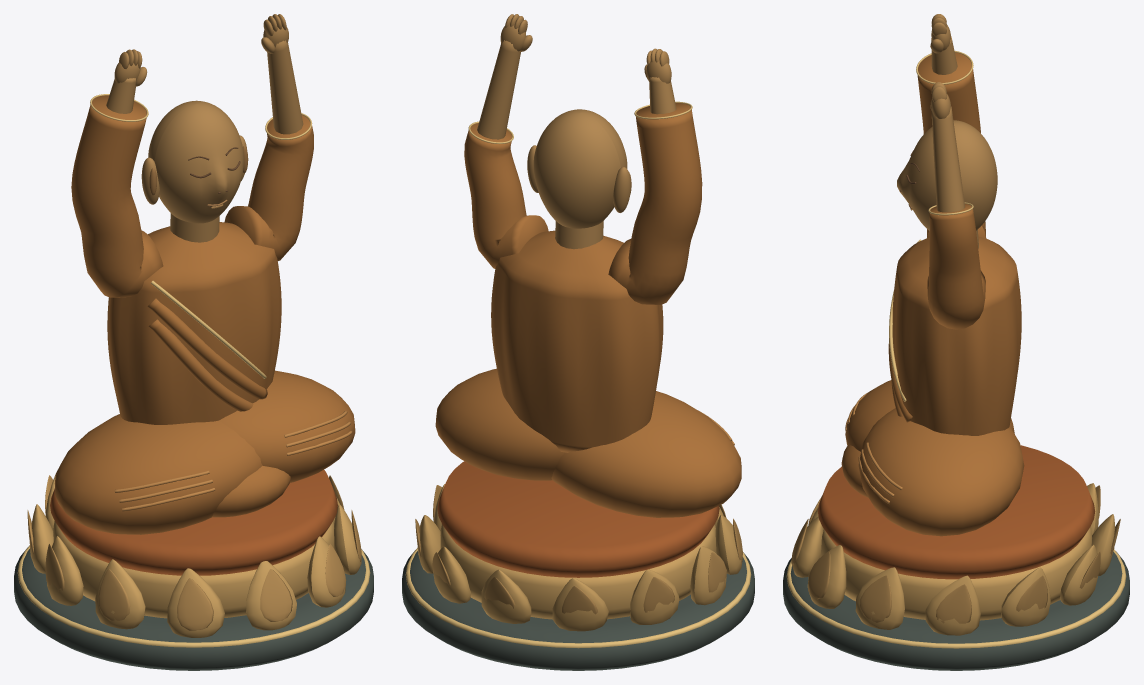
File: arhat_17.glb
The picture shows the model from 3 angles, left to right: view 1: azimuth 30°, elevation 25°; view 2: azimuth 150°, elevation 25°; view 3: azimuth 270°, elevation 25°; orthographic projection. The views are drawn at different scales.
Parts seen in each view (by area): view 1: arhat_17_ArhatDrapery, arhat_17_WarmBronze, arhat_17_AntiqueGold, arhat_17_CarvedPlinth, arhat_17_SaffronDrapery, arhat_17_GoldPetalRelief, arhat_17_RaisedGoldBorders, arhat_17_DraperyFoldHighlights; view 2: arhat_17_ArhatDrapery, arhat_17_SaffronDrapery, arhat_17_WarmBronze, arhat_17_CarvedPlinth, arhat_17_AntiqueGold, arhat_17_GoldPetalRelief, arhat_17_RaisedGoldBorders; view 3: arhat_17_ArhatDrapery, arhat_17_SaffronDrapery, arhat_17_AntiqueGold, arhat_17_CarvedPlinth, arhat_17_WarmBronze, arhat_17_GoldPetalRelief, arhat_17_RaisedGoldBorders, arhat_17_DraperyFoldHighlights.
Part boxes in pixels (left/top/right/bottom): arhat_17_ArhatDrapery: left=54, top=95, right=355, bottom=534; arhat_17_WarmBronze: left=106, top=14, right=303, bottom=242; arhat_17_AntiqueGold: left=29, top=475, right=361, bottom=637; arhat_17_CarvedPlinth: left=14, top=547, right=373, bottom=670; arhat_17_SaffronDrapery: left=50, top=470, right=337, bottom=575; arhat_17_GoldPetalRelief: left=27, top=475, right=361, bottom=630; arhat_17_RaisedGoldBorders: left=17, top=94, right=370, bottom=647; arhat_17_DraperyFoldHighlights: left=114, top=411, right=352, bottom=511; arhat_17_ArhatDrapery: left=435, top=102, right=741, bottom=517; arhat_17_SaffronDrapery: left=437, top=461, right=719, bottom=577; arhat_17_WarmBronze: left=477, top=14, right=676, bottom=249; arhat_17_CarvedPlinth: left=402, top=550, right=754, bottom=670; arhat_17_AntiqueGold: left=417, top=484, right=742, bottom=631; arhat_17_GoldPetalRelief: left=415, top=485, right=742, bottom=614; arhat_17_RaisedGoldBorders: left=405, top=101, right=751, bottom=648; arhat_17_ArhatDrapery: left=841, top=52, right=1024, bottom=536; arhat_17_SaffronDrapery: left=817, top=445, right=1095, bottom=579; arhat_17_AntiqueGold: left=792, top=483, right=1115, bottom=635; arhat_17_CarvedPlinth: left=783, top=551, right=1129, bottom=670; arhat_17_WarmBronze: left=897, top=14, right=997, bottom=248; arhat_17_GoldPetalRelief: left=791, top=485, right=1120, bottom=623; arhat_17_RaisedGoldBorders: left=786, top=50, right=1126, bottom=648; arhat_17_DraperyFoldHighlights: left=845, top=392, right=902, bottom=503.
Bounding box in the file's own units: 0.92 × 1.62 × 0.92.
